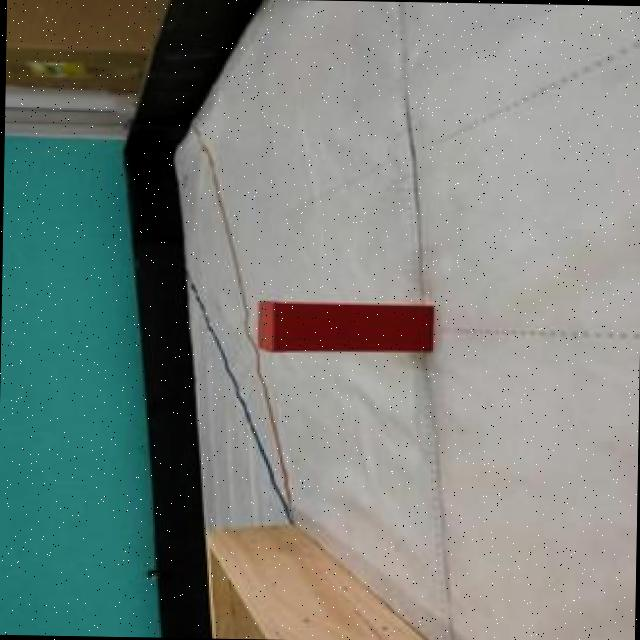redbox: (253, 300, 432, 354)
